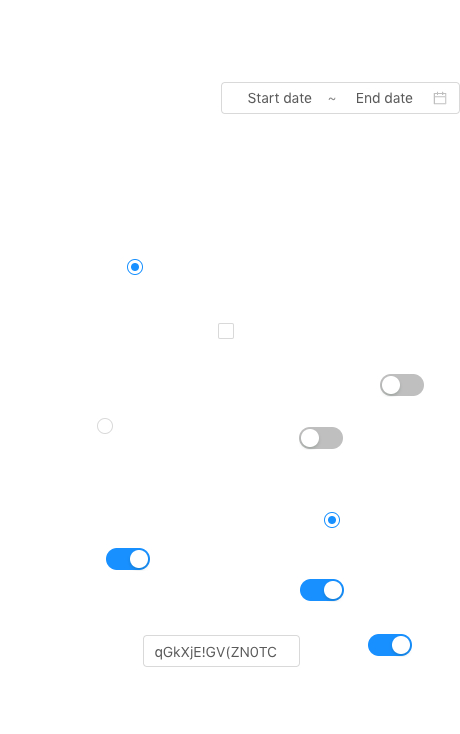Checkbox: (218, 320, 234, 341)
Input: (143, 635, 300, 667)
Radio: (324, 509, 340, 529), (127, 256, 143, 276), (97, 415, 113, 435)
RangePicker: (221, 82, 460, 114)
Switch: (380, 373, 424, 397), (300, 578, 344, 602), (368, 633, 412, 657), (106, 547, 150, 571), (299, 426, 343, 450)
